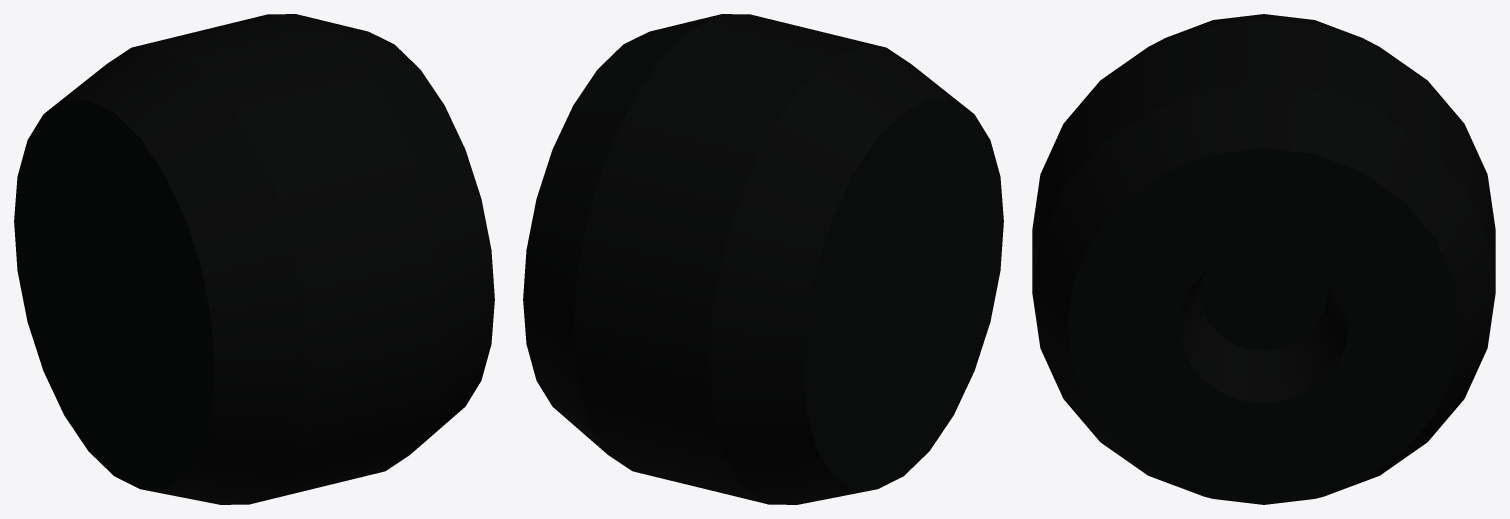
Rendered from wheel-tractor-dark-front.glb.
3 views of the same model, side by side, from view 1: azimuth 30°, elevation 25°; view 2: azimuth 150°, elevation 25°; view 3: azimuth 270°, elevation 25° (orthographic).
Visible parts, largest first — view 1: wheel-tractor-dark-front; view 2: wheel-tractor-dark-front; view 3: wheel-tractor-dark-front.
Part boxes in pixels (box(x1,y1,x2,y2)): wheel-tractor-dark-front: box(14, 14, 494, 504); wheel-tractor-dark-front: box(523, 14, 1003, 504); wheel-tractor-dark-front: box(1032, 14, 1495, 504).
Bounding box in the file's own units: 0.3694 × 0.5386 × 0.5386.
1 material, 1 textured.
